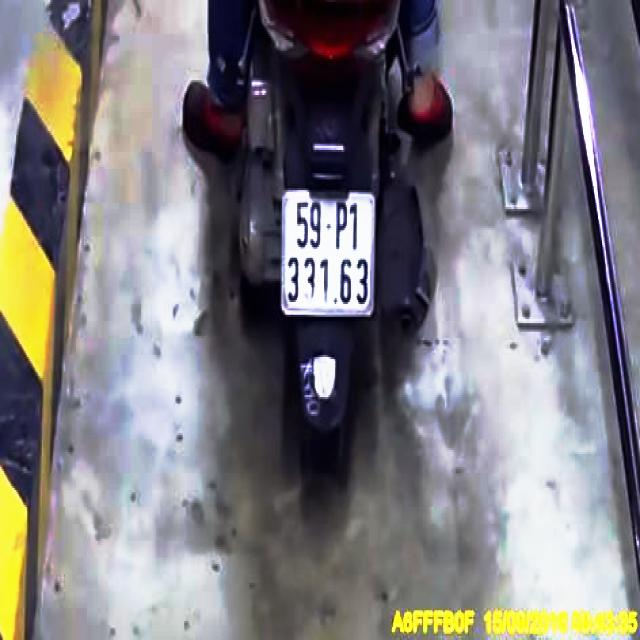license_plate: (282, 188, 378, 313)
